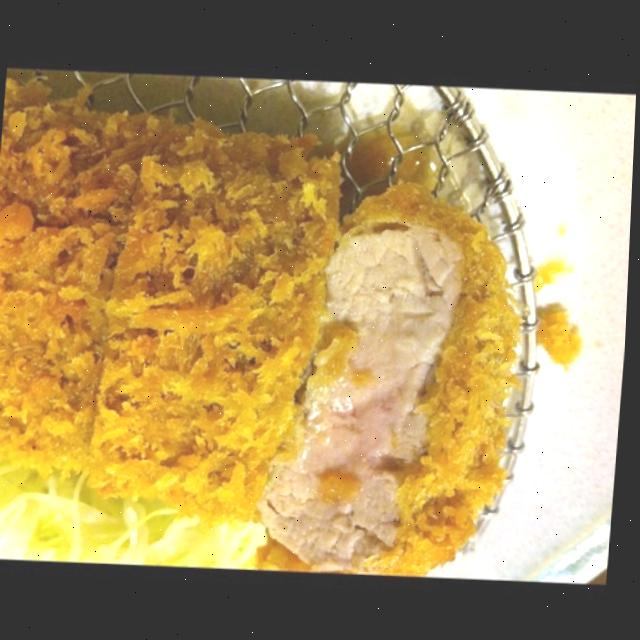牛肉菜式: (0, 59, 606, 614)
